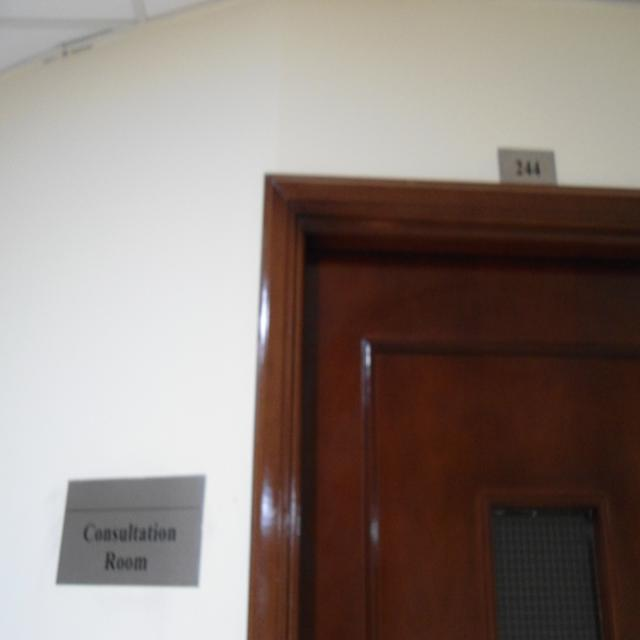door: (247, 173, 640, 640)
sign: (48, 463, 202, 589), (488, 131, 561, 188)
